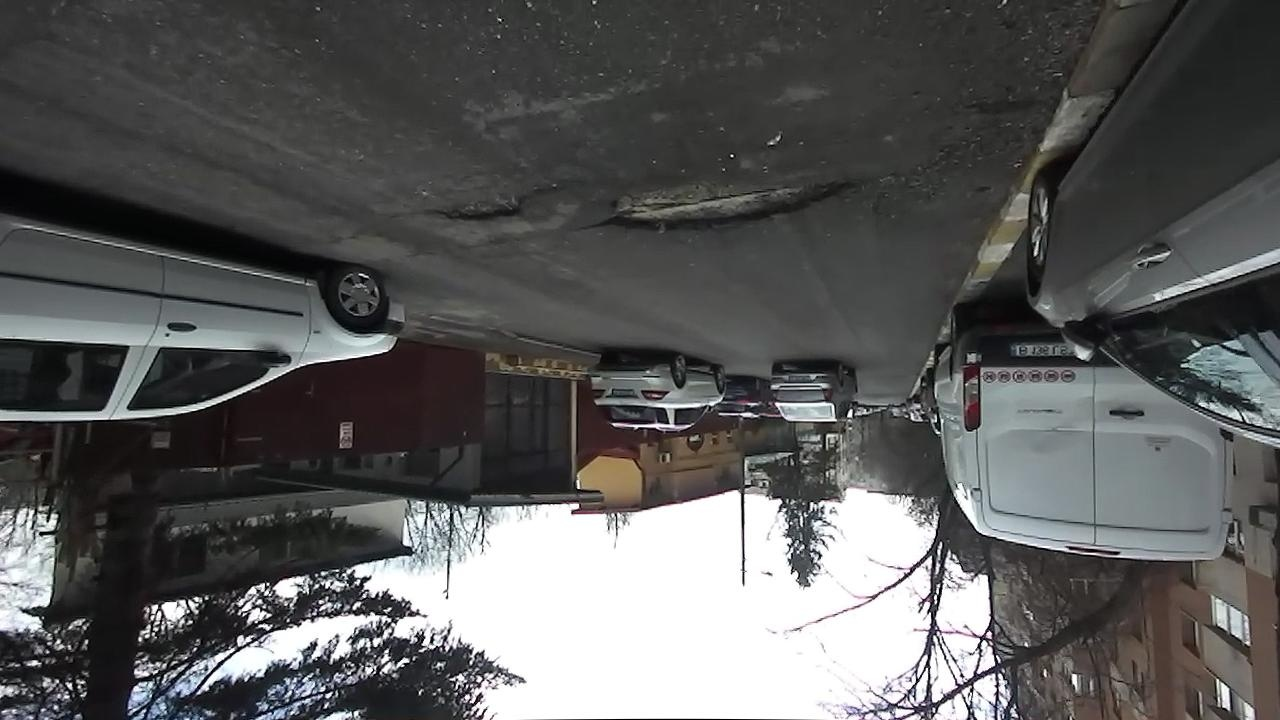pothole: (578, 157, 871, 240), (424, 183, 556, 225)
